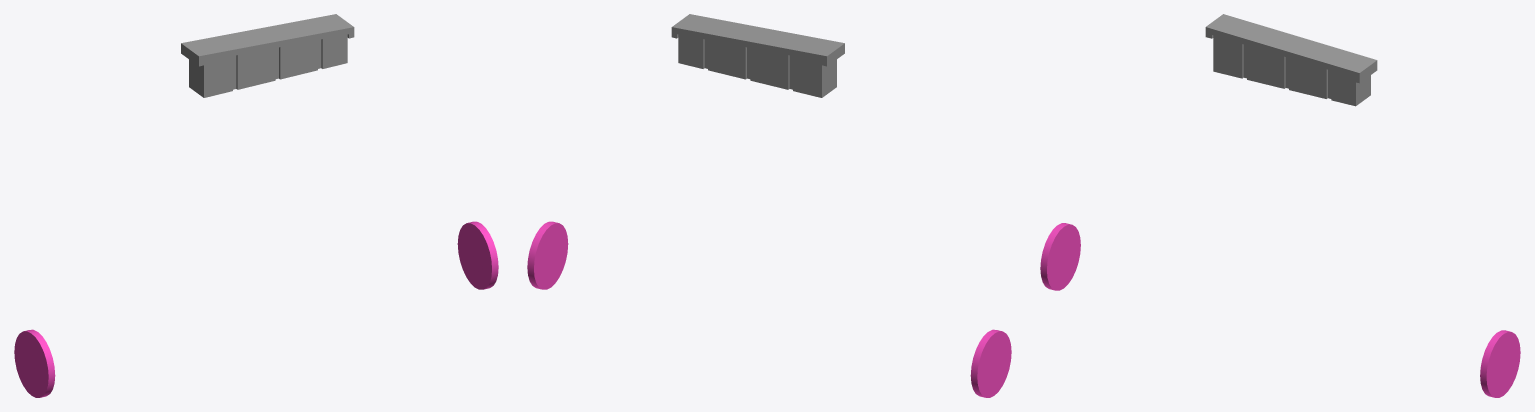
Rendered from Wonderland_part2.fbx.
3 renders of one model, left to right at view 1: azimuth 30°, elevation 25°; view 2: azimuth 150°, elevation 25°; view 3: azimuth 330°, elevation 25°, orthographic.
Visible parts, largest first — view 1: Material2.005, Material2.004; view 2: Material2.005, Material2.004; view 3: Material2.005, Material2.004.
Boxes of the visible parts, x1,y1,x2,y2 form: Material2.005: (181,14,354,97); Material2.004: (14,221,498,397); Material2.005: (671,14,844,97); Material2.004: (527,221,1011,397); Material2.005: (1205,14,1377,106); Material2.004: (1040,223,1520,397).
Size of the model in its own units: 0.00732 by 0.00478 by 0.000967.
